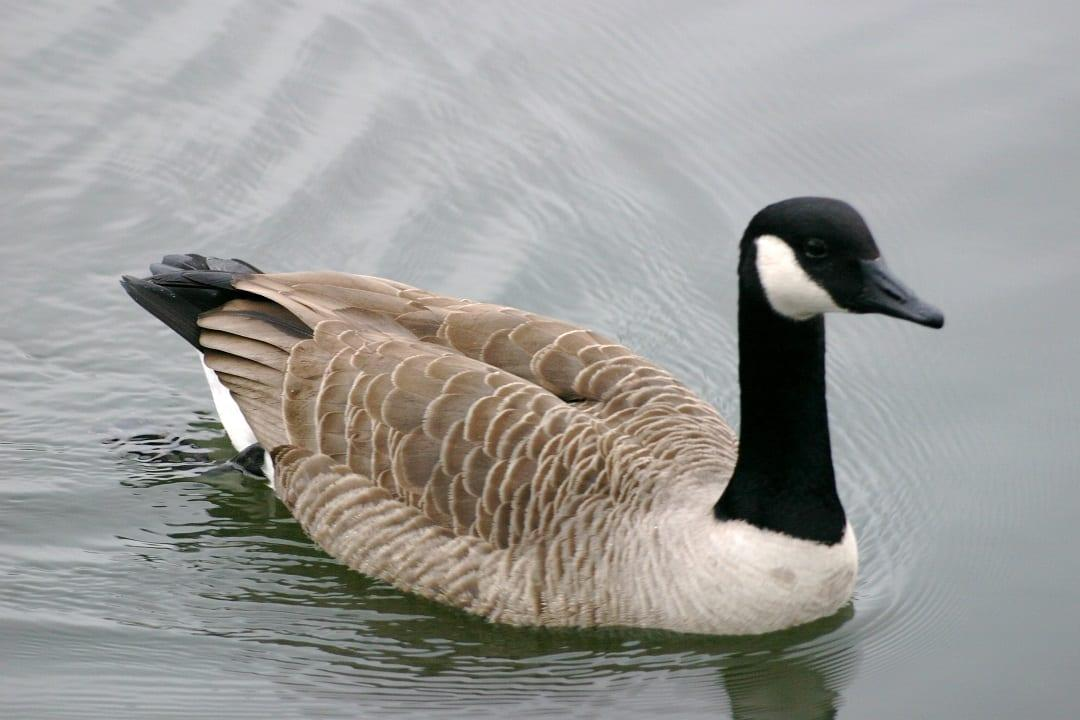Canadian-Goose: (120, 195, 946, 636)
